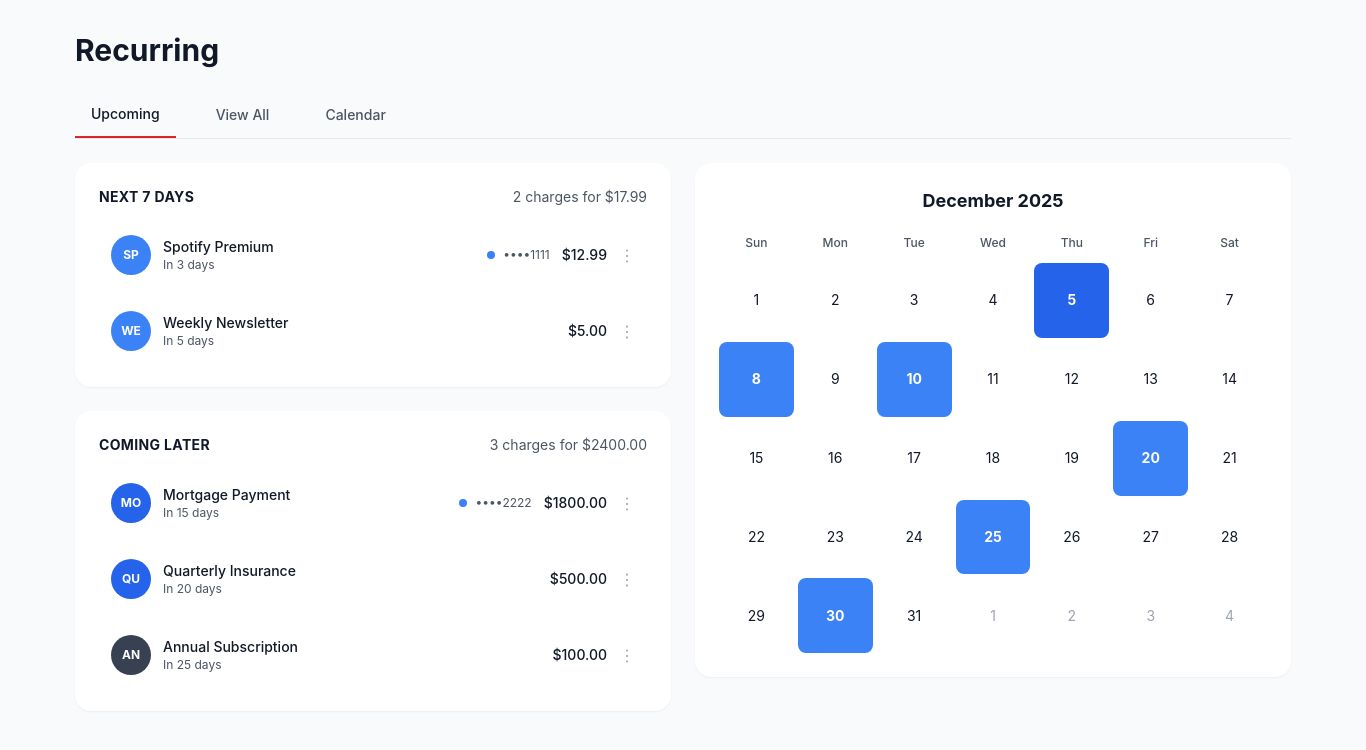
Recurring page › switches to View All tab
Expected: the heading "Recurring" is shown, [75,32,219,68]
Click the button "View All" at (242, 115), box [200,92,285,138]
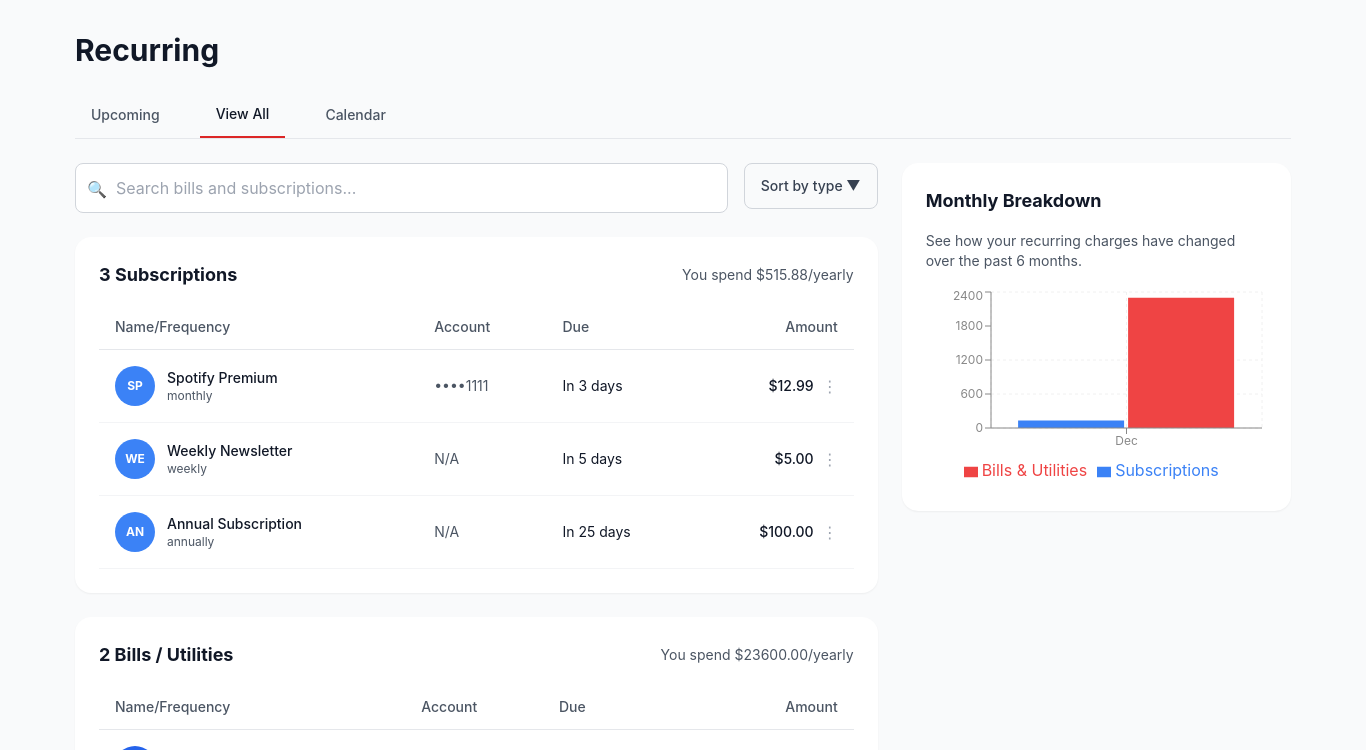
Now the field with placeholder "Search bills and subscriptions..." is shown, box [75,163,728,213]
